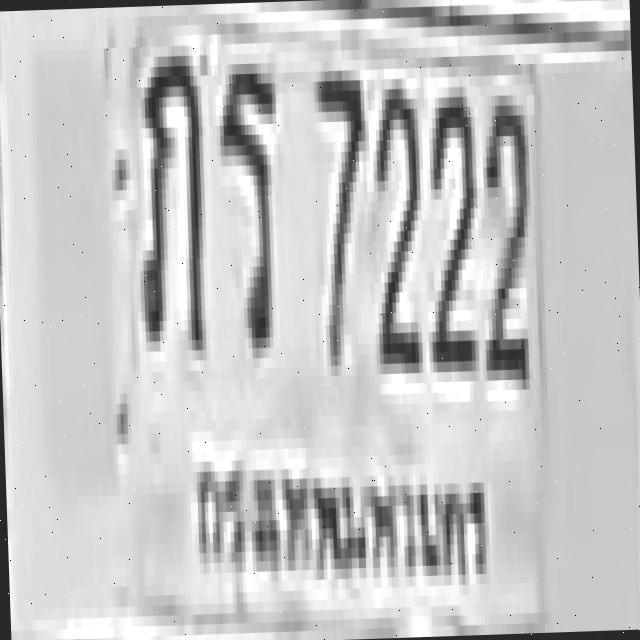2: (473, 84, 532, 370), (419, 81, 478, 367), (367, 73, 422, 359)
41PhorSamPhao: (128, 40, 206, 337)
44RorRuea: (213, 48, 280, 344)
7: (310, 55, 368, 361)
Bangkok: (185, 428, 496, 618)
